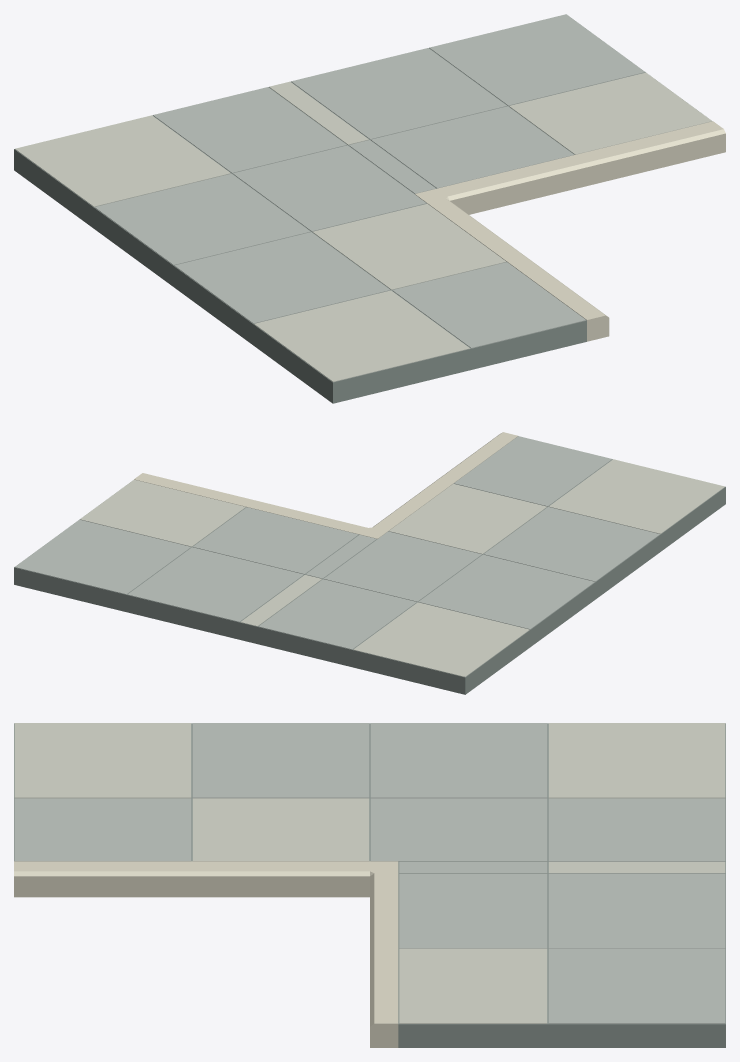
File: sidewalk_inner_corner.glb
The picture shows the model from 3 angles, top to bottom: view 1: azimuth 30°, elevation 25°; view 2: azimuth 150°, elevation 25°; view 3: azimuth 270°, elevation 25°; orthographic projection. The views are drawn at different scales.
Parts seen in each view (by area): view 1: sidewalk_inner_corner; view 2: sidewalk_inner_corner; view 3: sidewalk_inner_corner.
Part boxes in pixels (bbox=[...]): sidewalk_inner_corner: bbox=[14, 14, 725, 403]; sidewalk_inner_corner: bbox=[14, 432, 725, 694]; sidewalk_inner_corner: bbox=[14, 723, 725, 1047].
Size of the model in its own units: 4 by 0.15 by 4.
